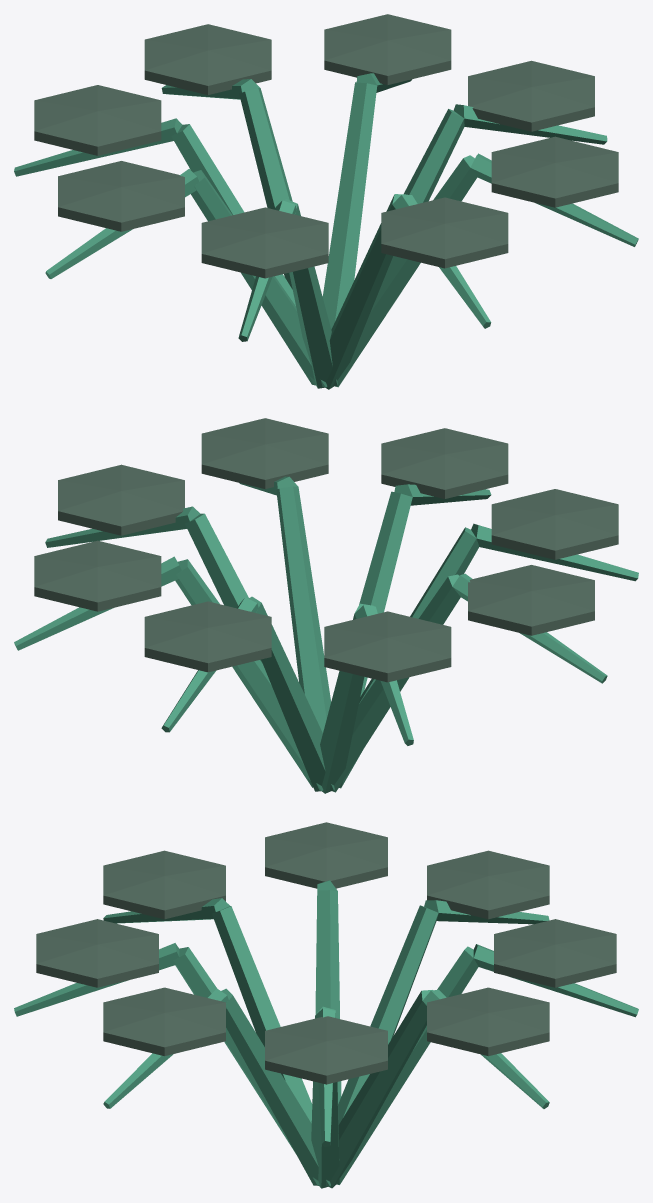
Rendered from ParkParkDecorFern.obj.
3 views of the same model, one above another, from view 1: azimuth 30°, elevation 25°; view 2: azimuth 150°, elevation 25°; view 3: azimuth 270°, elevation 25° (orthographic). The views are drawn at different scales.
Parts seen in each view (by area): view 1: ParkParkDecorFern; view 2: ParkParkDecorFern; view 3: ParkParkDecorFern.
Boxes of the visible parts, x1=… form: ParkParkDecorFern: x1=14, y1=14, x2=638, y2=389; ParkParkDecorFern: x1=14, y1=418, x2=638, y2=793; ParkParkDecorFern: x1=14, y1=822, x2=638, y2=1188.
Bounding box in the file's own units: 3.82 × 1.61 × 3.82.
